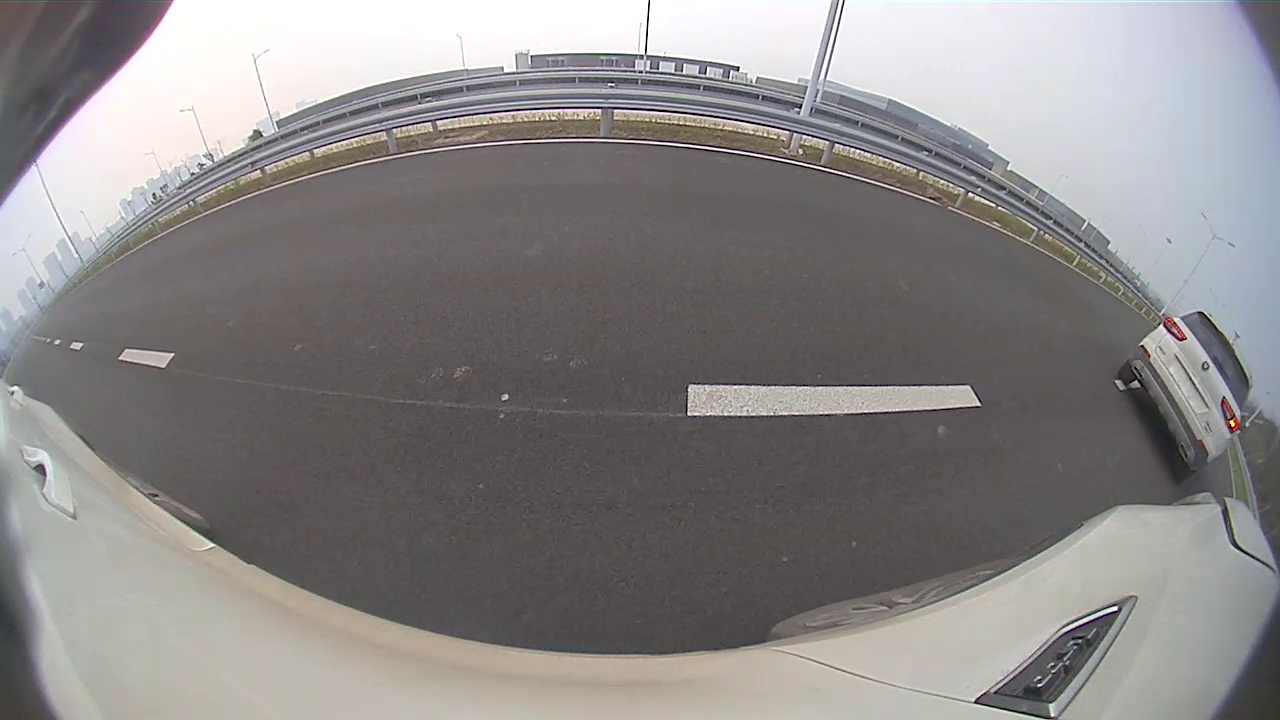car: (1115, 311, 1253, 487)
